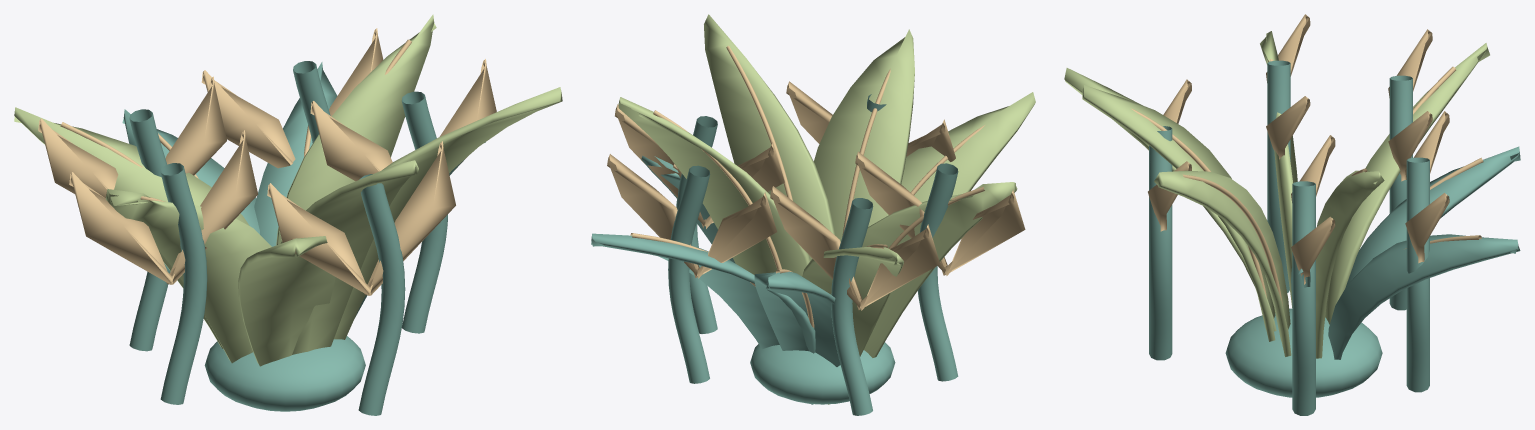
The model's file is bio_mist_leaf_07_near.glb.
3 renders of one model, left to right at view 1: azimuth 30°, elevation 25°; view 2: azimuth 150°, elevation 25°; view 3: azimuth 270°, elevation 25°, orthographic. The views are drawn at different scales.
Parts seen in each view (by area): view 1: Cupped condensate leaf.007, Root rosette, Cupped condensate leaf.004, Cupped condensate leaf.008, Secondary fan lobe.008, Secondary fan lobe.004, Cupped condensate leaf.002, Branching support.004, Branching support.002, Secondary fan lobe.002, Cupped condensate leaf.005, Secondary fan lobe (+7 smaller); view 2: Cupped condensate leaf.002, Cupped condensate leaf.005, Cupped condensate leaf.008, Cupped condensate leaf.003, Cupped condensate leaf.004, Root rosette, Cupped condensate leaf.007, Secondary fan lobe.006, Secondary fan lobe.002, Secondary fan lobe.008, Branching support.001, Branching support.003 (+11 smaller); view 3: Root rosette, Cupped condensate leaf.003, Cupped condensate leaf.005, Cupped condensate leaf.002, Cupped condensate leaf.001, Branching support, Branching support.003, Branching support.002, Cupped condensate leaf.006, Cupped condensate leaf.008, Branching support.004, Cupped condensate leaf.004 (+9 smaller).
Boxes of the visible parts, x1,y1,x2,y2 form: Cupped condensate leaf.007: [238, 236, 335, 366]; Root rosette: [204, 336, 365, 411]; Cupped condensate leaf.004: [105, 189, 271, 363]; Cupped condensate leaf.008: [276, 14, 436, 245]; Secondary fan lobe.008: [69, 130, 258, 284]; Secondary fan lobe.004: [267, 141, 455, 295]; Cupped condensate leaf.002: [280, 160, 418, 354]; Branching support.004: [160, 163, 207, 404]; Branching support.002: [358, 174, 405, 415]; Secondary fan lobe.002: [38, 76, 226, 197]; Cupped condensate leaf.005: [334, 87, 562, 339]; Secondary fan lobe: [310, 59, 496, 181]; Cupped condensate leaf.002: [814, 29, 914, 241]; Cupped condensate leaf.005: [704, 14, 835, 261]; Cupped condensate leaf.008: [618, 97, 809, 276]; Cupped condensate leaf.003: [591, 233, 815, 353]; Cupped condensate leaf.004: [862, 182, 1017, 357]; Root rosette: [750, 342, 895, 404]; Cupped condensate leaf.007: [901, 92, 1035, 202]; Secondary fan lobe.006: [607, 154, 776, 278]; Secondary fan lobe.002: [770, 186, 939, 310]; Secondary fan lobe.008: [855, 151, 1025, 275]; Branching support.001: [831, 198, 873, 415]; Branching support.003: [668, 165, 710, 383]; Root rosette: [1225, 308, 1382, 397]; Cupped condensate leaf.003: [1328, 234, 1520, 359]; Cupped condensate leaf.005: [1154, 170, 1291, 356]; Cupped condensate leaf.002: [1082, 85, 1275, 341]; Cupped condensate leaf.001: [1325, 43, 1489, 324]; Branching support: [1292, 181, 1315, 415]; Branching support.003: [1406, 157, 1429, 392]; Branching support.002: [1149, 126, 1172, 360]; Cupped condensate leaf.006: [1345, 146, 1520, 287]; Cupped condensate leaf.008: [1316, 170, 1384, 358]; Branching support.004: [1267, 60, 1290, 292]; Cupped condensate leaf.004: [1260, 31, 1297, 307].
Size of the model in its own units: 1.85 by 1.3 by 1.74.
